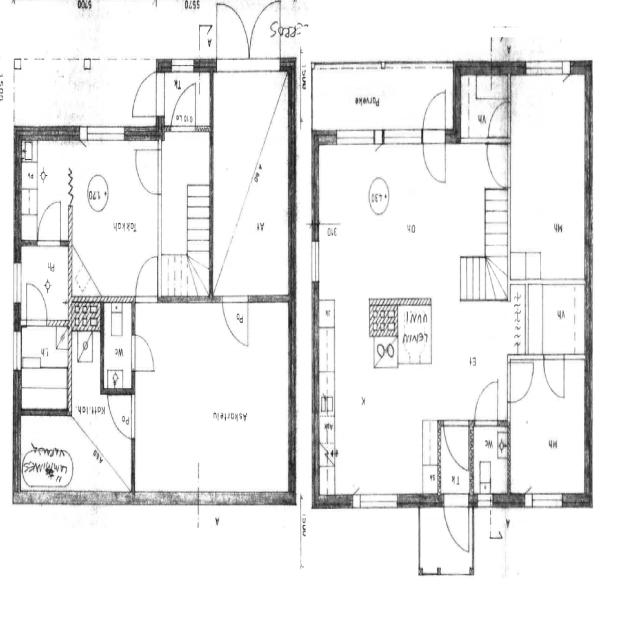door: (508, 354, 590, 501), (420, 86, 450, 188), (398, 299, 432, 368), (215, 1, 251, 66), (248, 1, 280, 64), (442, 493, 473, 557), (131, 140, 164, 198), (220, 291, 251, 350), (129, 68, 161, 125), (442, 416, 472, 474), (132, 249, 162, 304), (106, 388, 137, 440), (472, 374, 501, 428), (506, 354, 536, 406), (36, 195, 64, 249), (22, 276, 50, 330), (170, 82, 198, 134), (541, 351, 567, 402), (130, 330, 158, 376), (484, 140, 510, 189), (486, 100, 509, 140), (396, 341, 414, 367)
window: (351, 486, 401, 516), (523, 486, 567, 515), (79, 121, 128, 147), (523, 56, 572, 81), (381, 122, 423, 150), (333, 125, 378, 149), (309, 232, 322, 288), (167, 54, 198, 76), (458, 131, 489, 151), (12, 258, 23, 308), (11, 327, 22, 374), (476, 491, 495, 510)
zone: (317, 294, 510, 504), (313, 130, 510, 297), (133, 300, 292, 499), (214, 65, 292, 297), (508, 68, 588, 286), (66, 141, 162, 301), (509, 355, 590, 501), (160, 130, 211, 300), (510, 281, 591, 356), (17, 136, 73, 243), (17, 321, 72, 413), (17, 240, 70, 330), (458, 71, 510, 142), (470, 420, 510, 500), (102, 297, 134, 395), (163, 64, 212, 128), (397, 297, 433, 368)
